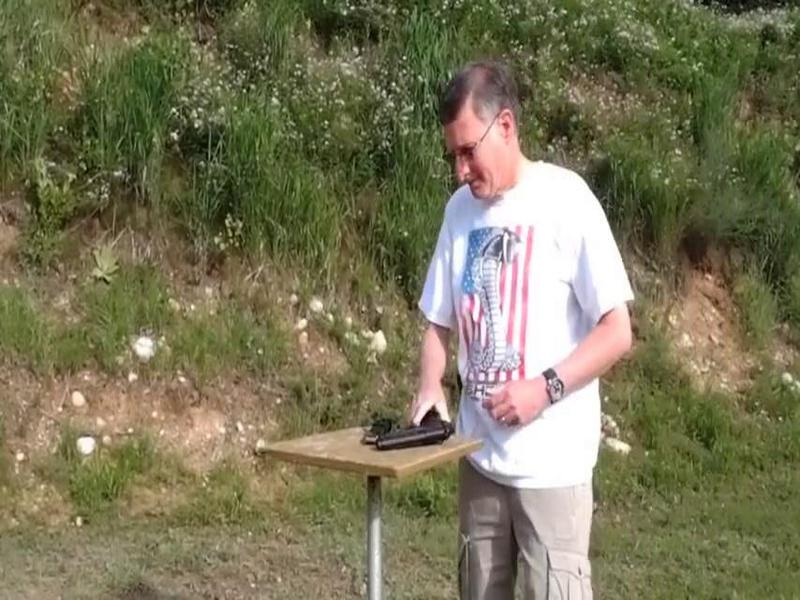Pistola: (343, 408, 470, 464)
